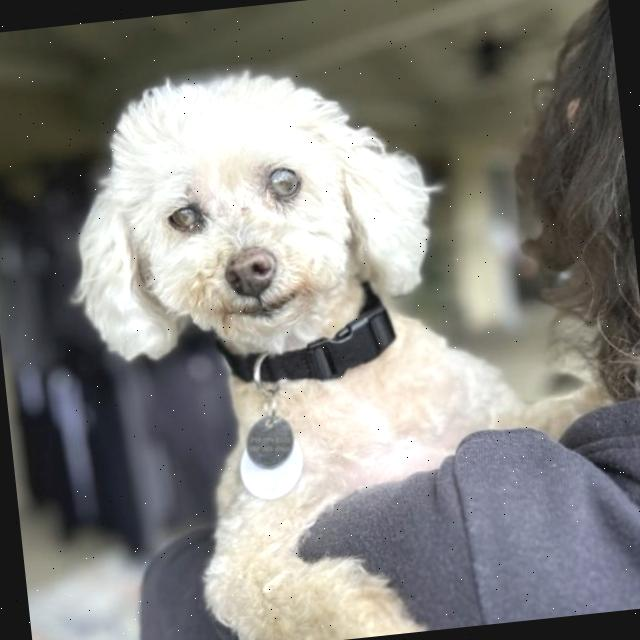Poodle_dog: (33, 40, 463, 403)
